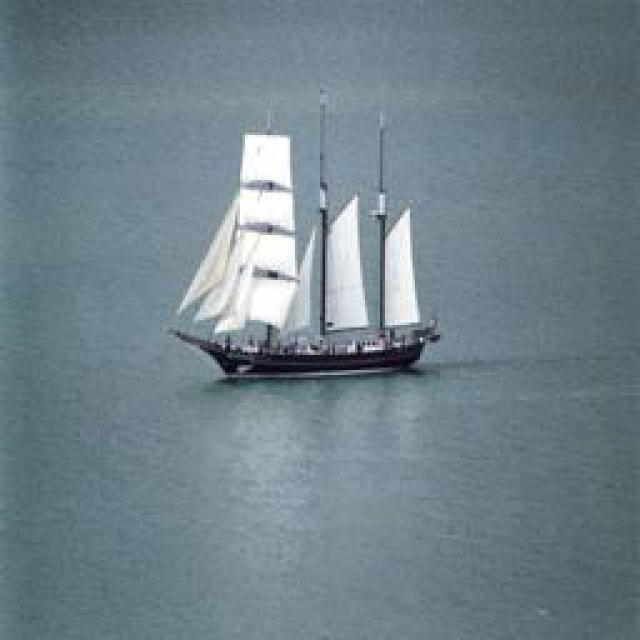Ship: (174, 103, 444, 381)
